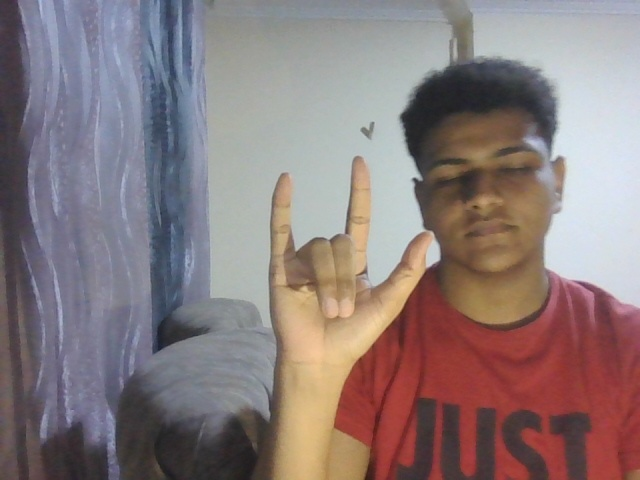iloveyou: (259, 153, 446, 363)
